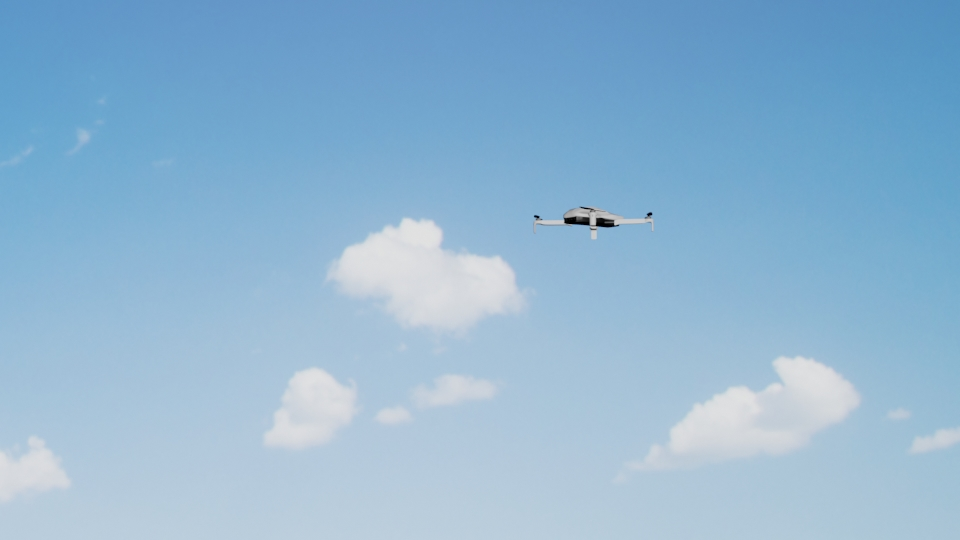drone: (531, 198, 657, 239)
